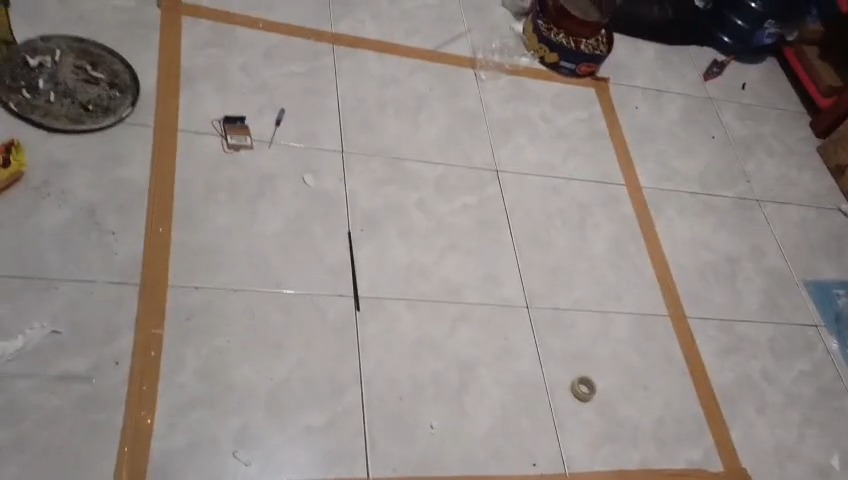floor marking: (114, 0, 475, 479), (505, 67, 749, 479)
